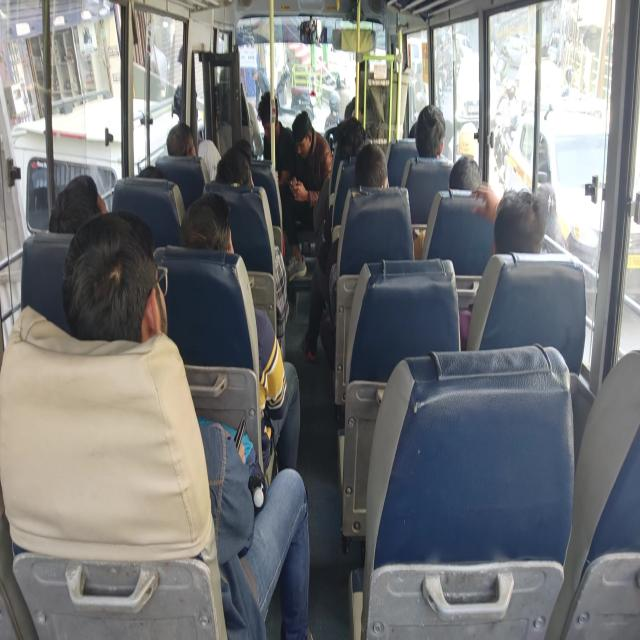person: (61, 210, 312, 638), (179, 192, 301, 472), (301, 143, 389, 366), (458, 180, 557, 348), (215, 144, 290, 361), (278, 110, 332, 279), (471, 180, 566, 254), (312, 116, 366, 236), (256, 90, 295, 185), (48, 174, 107, 234), (166, 121, 221, 183), (415, 103, 447, 159), (215, 145, 254, 188), (354, 143, 389, 189), (448, 154, 482, 191), (166, 121, 196, 157), (457, 121, 478, 159)
